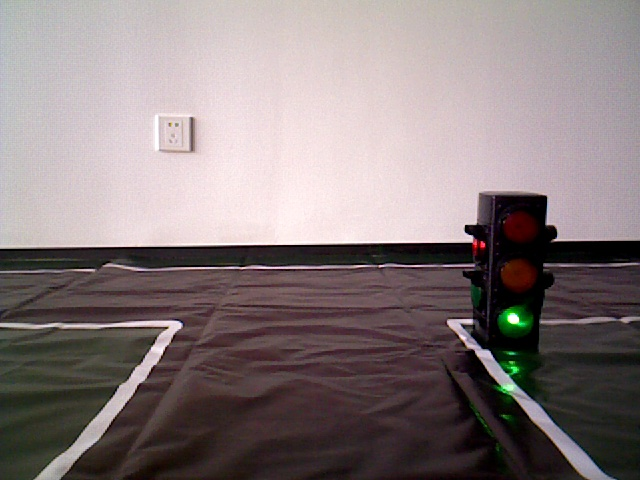green: (479, 195, 539, 346)
